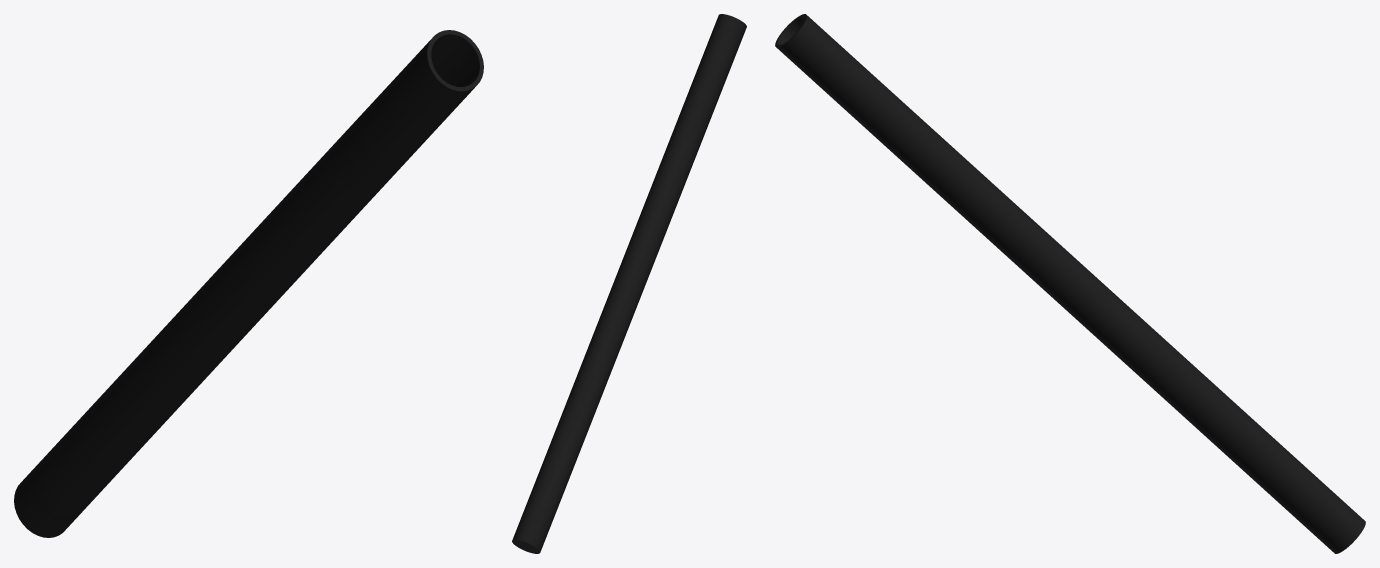
The picture shows the model from 3 angles, left to right: view 1: azimuth 30°, elevation 25°; view 2: azimuth 150°, elevation 25°; view 3: azimuth 270°, elevation 25°; orthographic projection. The views are drawn at different scales.
Parts seen in each view (by area): view 1: Cylinder005; view 2: Cylinder005; view 3: Cylinder005.
Boxes of the visible parts, x1,y1,x2,y2 form: Cylinder005: [14, 30, 483, 537]; Cylinder005: [512, 14, 746, 553]; Cylinder005: [775, 14, 1365, 553].
Size of the model in its own units: 3.57 by 52.29 by 52.29.
Materials: 1 (1 with a texture image).
